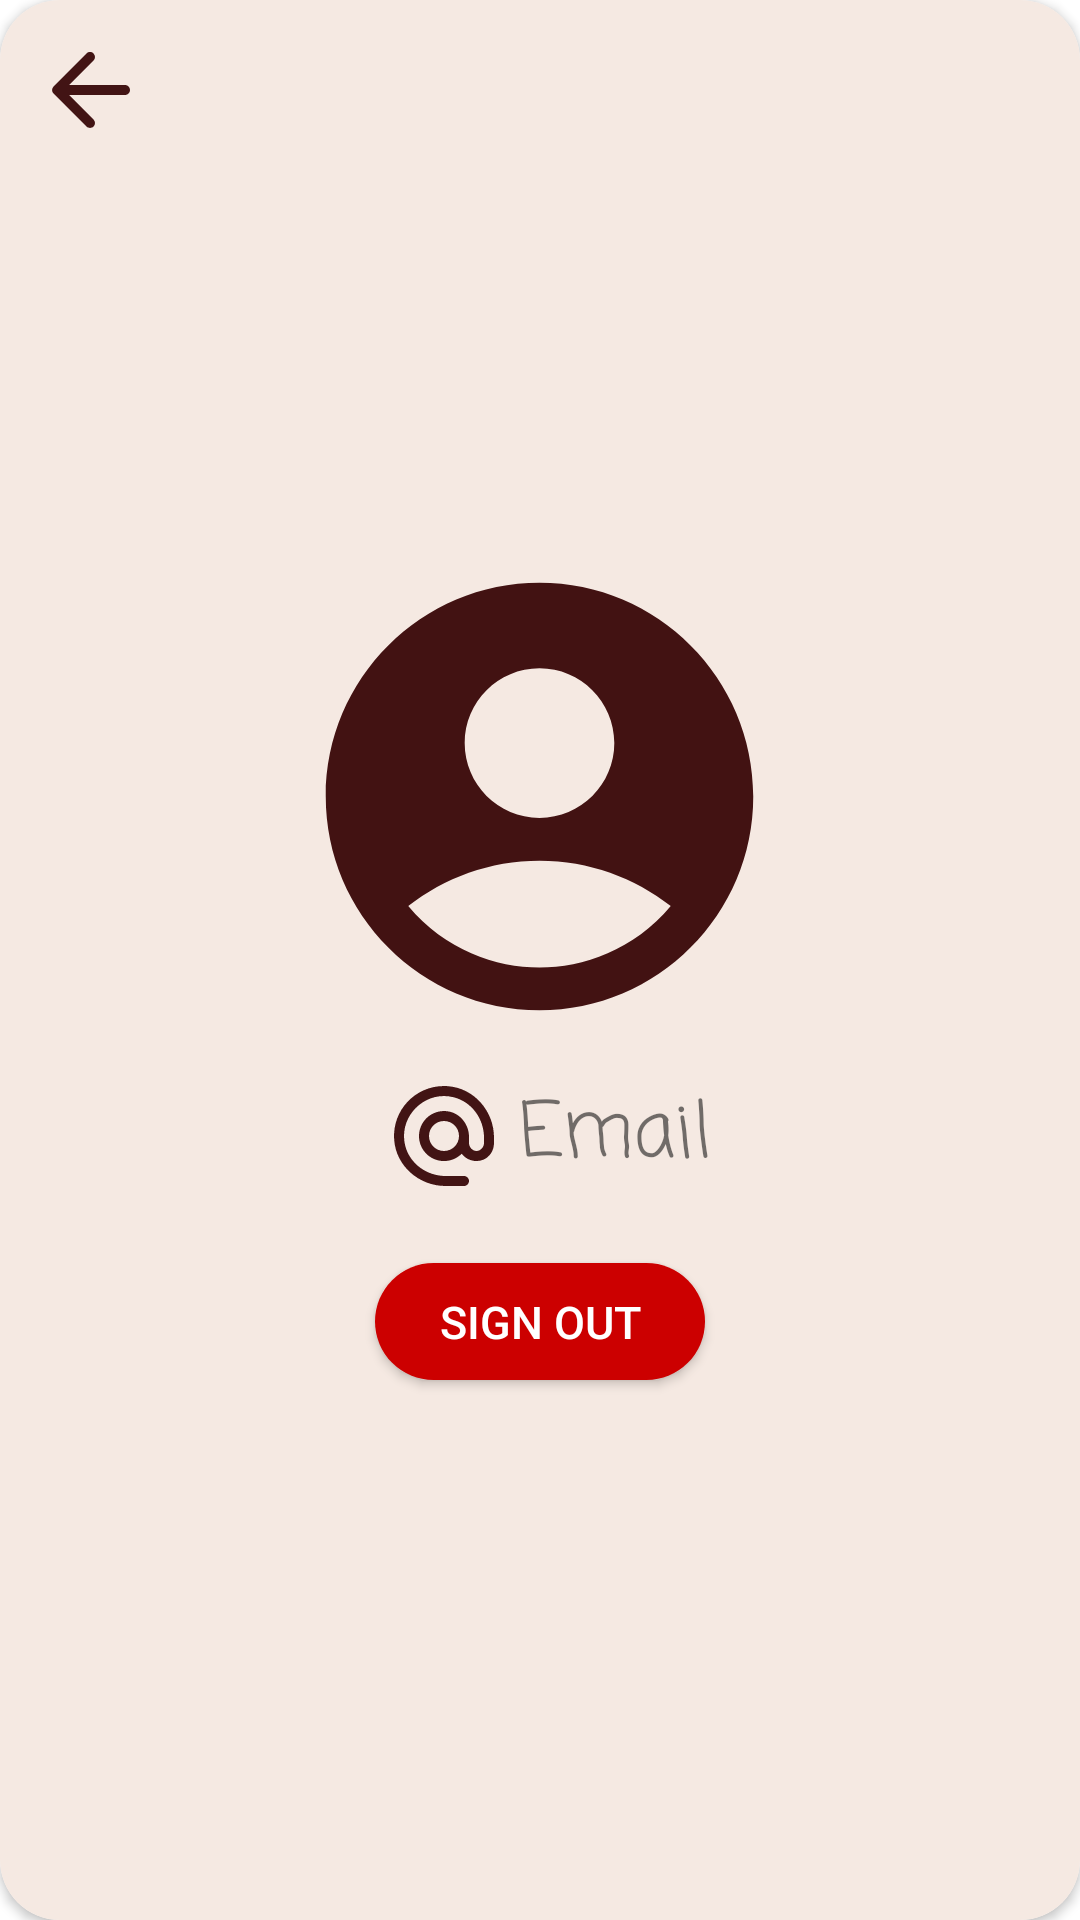

Named icons in this screenshot (1080px x 1920px) and their bounding boxes, BBox(x1, y1, x2, y2):
arrow back: BBox(52, 52, 130, 128)
